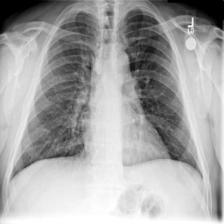normal: (9, 5, 206, 186)
